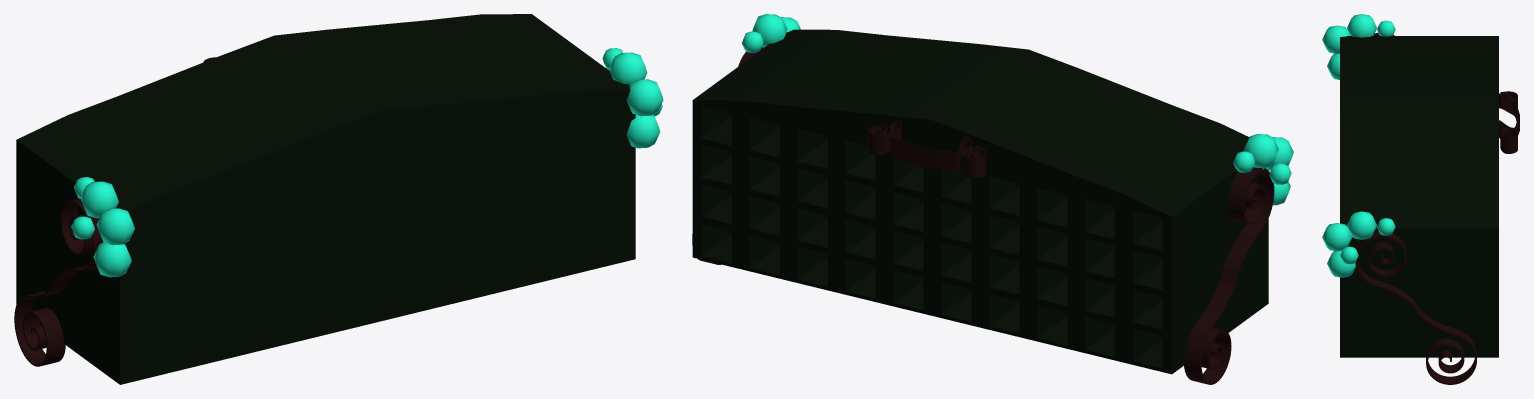
The model's file is bibliothèque_de_parchemins.FBX.
3 views of the same model, side by side, from view 1: azimuth 30°, elevation 25°; view 2: azimuth 150°, elevation 25°; view 3: azimuth 270°, elevation 25° (orthographic). The views are drawn at different scales.
Parts seen in each view (by area): view 1: Helix012; view 2: Helix012; view 3: Helix012.
Part boxes in pixels (box(x1,y1,x2,y2)): Helix012: box(14, 14, 663, 384); Helix012: box(692, 14, 1293, 384); Helix012: box(1322, 14, 1519, 384).
Bounding box in the file's own units: 4177 × 1634 × 1603.
